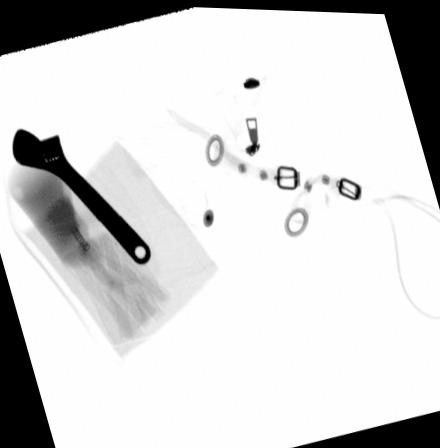Wrench: (10, 123, 152, 265)
